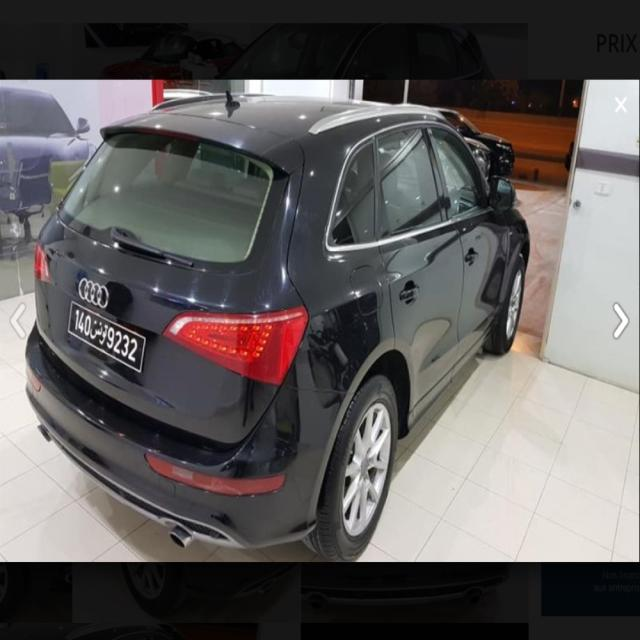LP: (64, 300, 148, 377)
